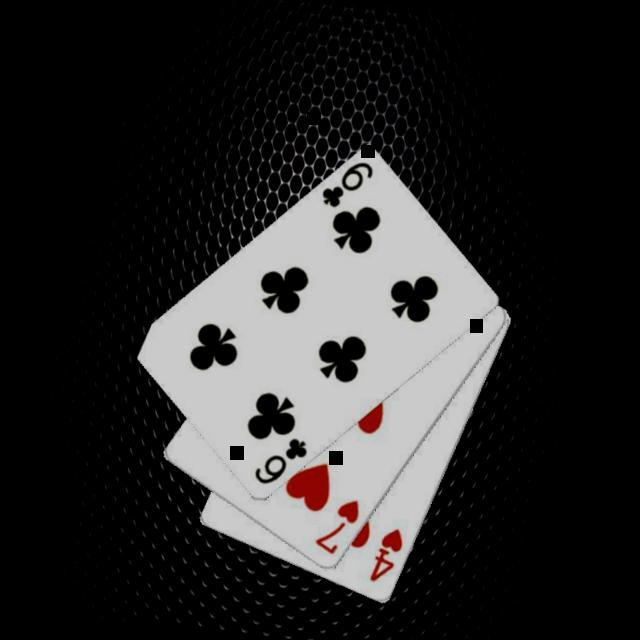4H: (366, 522, 406, 587)
6C: (249, 430, 310, 491), (316, 154, 376, 213)
7H: (310, 492, 362, 559)
